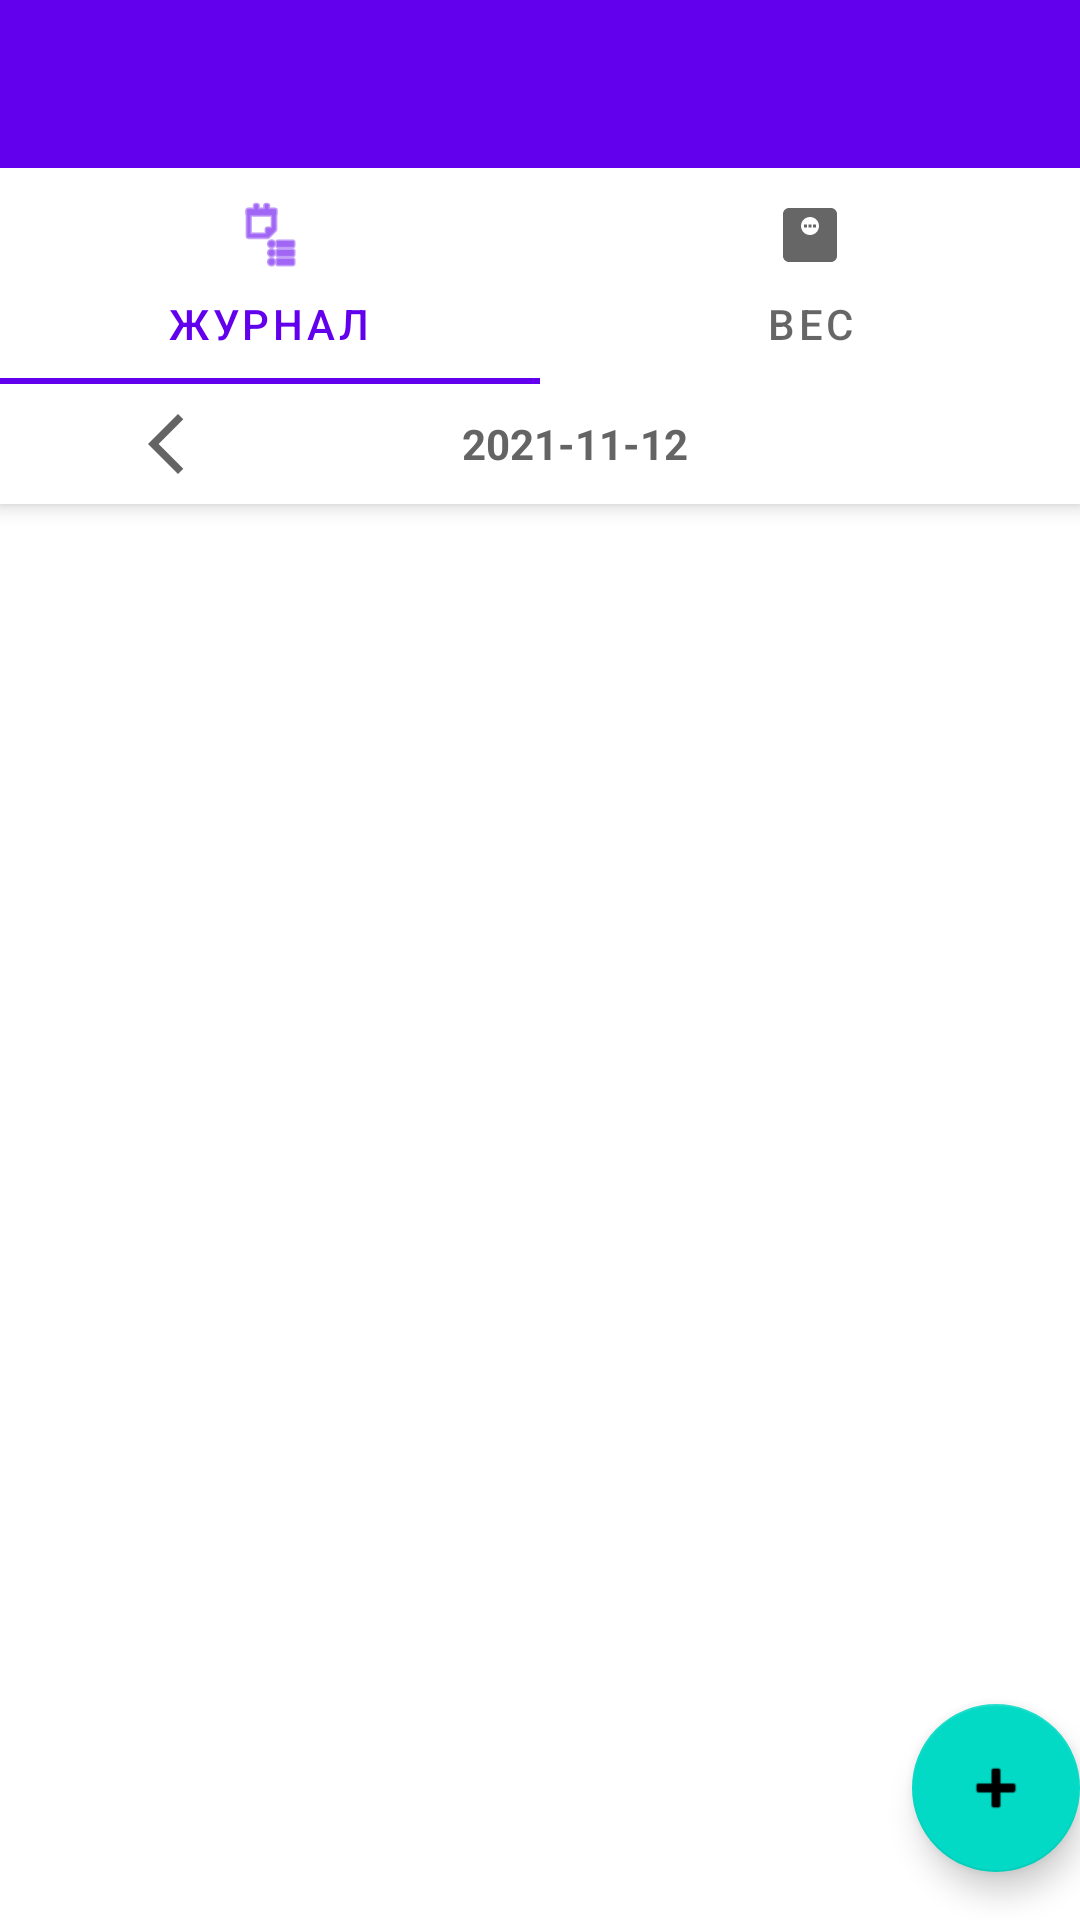

Screen size 1080 × 1920. Icon name, then its box in pixels as bbox=[x1, y1, x2, y2]:
add: bbox=[912, 1704, 1080, 1872]
